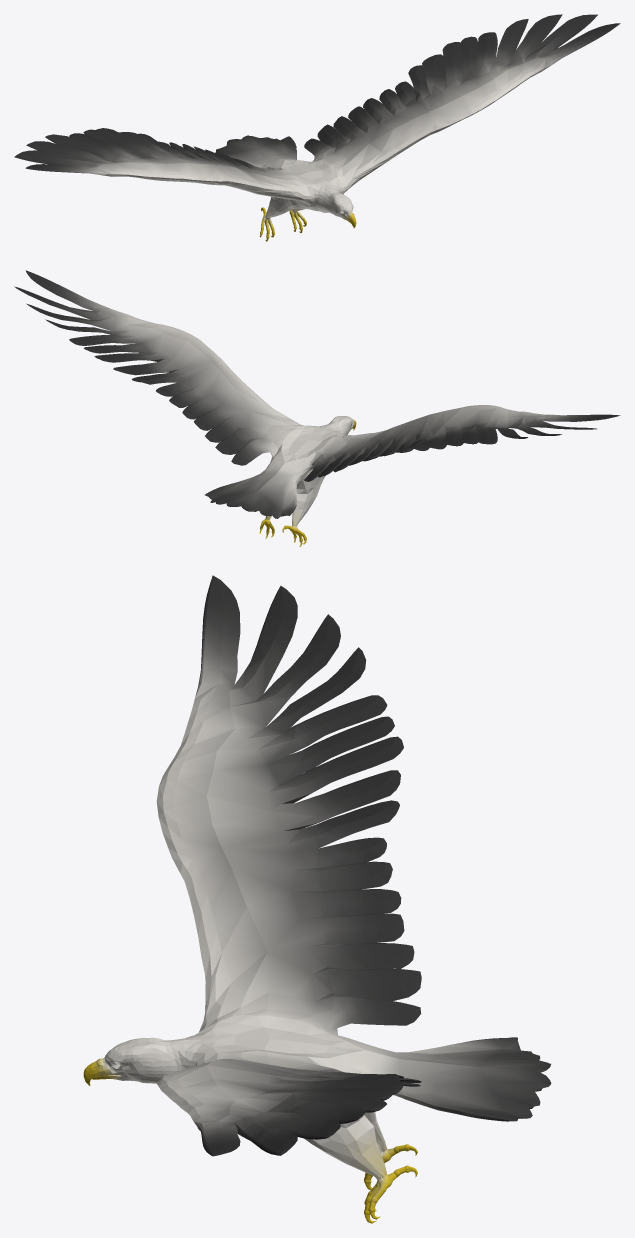
The model's file is Trieagle.dae.
3 views of the same model, one above another, from view 1: azimuth 30°, elevation 25°; view 2: azimuth 150°, elevation 25°; view 3: azimuth 270°, elevation 25° (orthographic). The views are drawn at different scales.
Parts seen in each view (by area): view 1: node; view 2: node; view 3: node.
Part boxes in pixels (bbox=[...]): node: bbox=[14, 14, 620, 241]; node: bbox=[14, 270, 620, 546]; node: bbox=[83, 575, 551, 1223].
Size of the model in its own units: 1.47 by 0.4026 by 0.5001.
